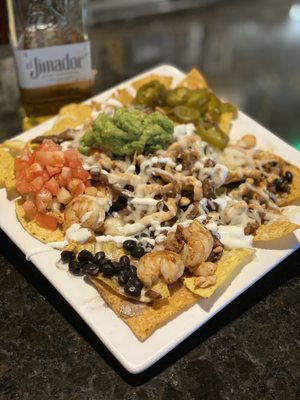curry: (78, 105, 175, 158)
